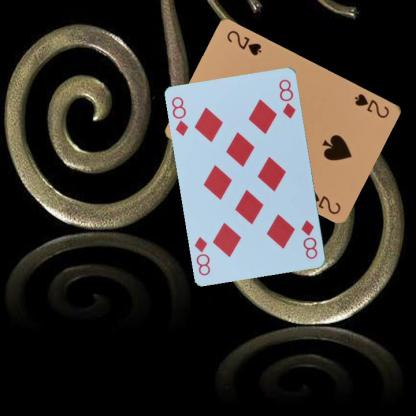2s: (352, 90, 391, 119)
8d: (169, 94, 190, 138), (299, 218, 319, 260)
